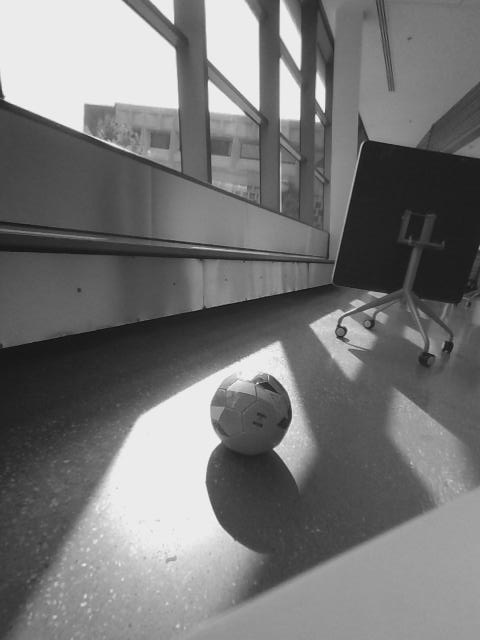ball: (207, 367, 295, 454)
